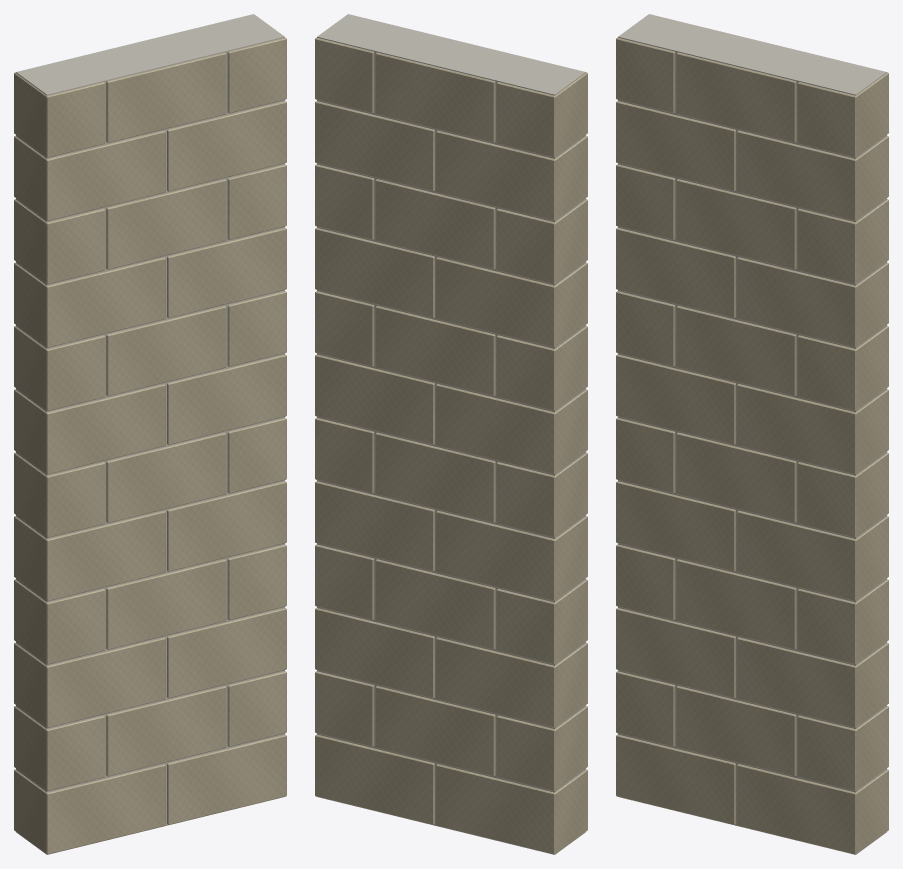
File: wall-1m.glb
3 views of the same model, side by side, from view 1: azimuth 30°, elevation 25°; view 2: azimuth 150°, elevation 25°; view 3: azimuth 330°, elevation 25° (orthographic).
Visible parts, largest first — view 1: wall-1m; view 2: wall-1m; view 3: wall-1m.
Boxes of the visible parts, <box> form: wall-1m: <box>14,14,286,854</box>; wall-1m: <box>315,14,587,854</box>; wall-1m: <box>616,14,888,854</box>.
Bounding box in the file's own units: 0.992 × 3 × 0.24.
2 materials, 1 textured.
